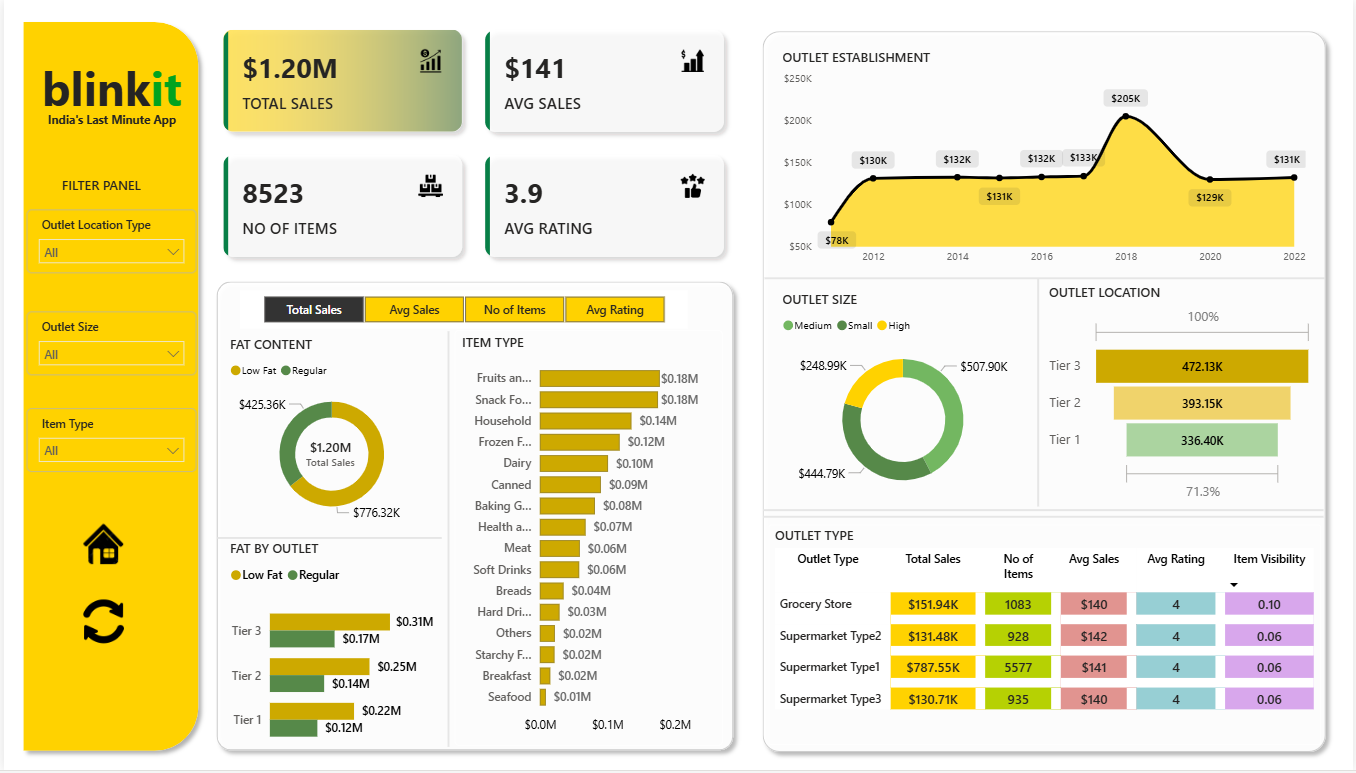

Layout of this report page (visuals, bound fields, positions):
{"tool":"powerbi","page":{"name":"BLINKIT","canvas":[1400,800],"ordinal":0},"visuals":[{"type":"shape","box":[11.6,13.2,199.9,774.7],"z":0},{"type":"textbox","box":[24.2,52.3,174.5,76.5],"z":1000},{"type":"textbox","box":[24.2,108.7,174.5,76.5],"z":2000},{"type":"cardVisual","fields":{"Data":["BlinkIT Grocery Data.Total Sales","BlinkIT Grocery Data.Avg Sales","BlinkIT Grocery Data.No of Items","BlinkIT Grocery Data.Avg Rating"]},"box":[210.9,13.8,555.5,270.2],"z":3000},{"type":"shape","box":[212.3,284,554.2,504.5],"z":4000},{"type":"donutChart","title":"FAT CONTENT","fields":{"Y":["BlinkIT Grocery Data.Total Sales"],"Category":["BlinkIT Grocery Data.Item Fat Content"]},"box":[230.2,347.4,220.5,202.6],"z":5000},{"type":"slicer","fields":{"Values":["Metrics.Metrics"]},"box":[245.4,301.9,464.6,40],"z":6000},{"type":"cardVisual","fields":{"Data":["BlinkIT Grocery Data.Total Sales"]},"box":[277.1,414.9,125.4,111.7],"z":7000},{"type":"clusteredBarChart","title":"FAT BY OUTLET","fields":{"Y":["BlinkIT Grocery Data.Total Sales"],"Category":["BlinkIT Grocery Data.Outlet Location Type"],"Series":["BlinkIT Grocery Data.Item Fat Content"]},"box":[230.2,559.7,220.6,230.2],"z":8000},{"type":"shape","box":[221.9,544.5,233,27.6],"z":9000},{"type":"shape","box":[454.9,343.3,12.4,431.5],"z":10000},{"type":"barChart","title":"ITEM TYPE","fields":{"Y":["BlinkIT Grocery Data.Total Sales"],"Category":["BlinkIT Grocery Data.Item Type"]},"box":[467.3,341.9,278.5,431.5],"z":11000},{"type":"shape","box":[778.4,22.8,602.6,766.3],"z":12000},{"type":"lineChart","title":"OUTLET ESTABLISHMENT","fields":{"Category":["BlinkIT Grocery Data.Outlet Establishment Year"],"Y":["BlinkIT Grocery Data.Total Sales"]},"box":[803.7,49.6,552.8,234.3],"z":13000},{"type":"shape","box":[789.9,284,581.7,11],"z":14000},{"type":"donutChart","title":"OUTLET SIZE","fields":{"Y":["BlinkIT Grocery Data.Total Sales"],"Category":["BlinkIT Grocery Data.Outlet Size"]},"box":[803.7,301.9,259.2,224.7],"z":15000},{"type":"shape","box":[1067,289.5,12.4,237.1],"z":16000},{"type":"funnel","title":"OUTLET LOCATION","fields":{"Y":["Sum(BlinkIT Grocery Data.Sales)"],"Category":["BlinkIT Grocery Data.Outlet Location Type"]},"box":[1079.4,295,284,230.2],"z":17000},{"type":"shape","box":[788.5,523.8,581.7,11],"z":18000},{"type":"pivotTable","title":"OUTLET TYPE","fields":{"Values":["BlinkIT Grocery Data.Total Sales","BlinkIT Grocery Data.No of Items","BlinkIT Grocery Data.Avg Sales","BlinkIT Grocery Data.Avg Rating","Avg(BlinkIT Grocery Data.Item Visibility)"],"Rows":["BlinkIT Grocery Data.Outlet Type"]},"box":[794,544.5,573.5,228.8],"z":19000},{"type":"shape","box":[788.5,530.7,581.7,11],"z":20000},{"type":"slicer","fields":{"Values":["BlinkIT Grocery Data.Outlet Location Type"]},"box":[23.4,217.8,176.5,66.2],"z":21000},{"type":"slicer","fields":{"Values":["BlinkIT Grocery Data.Outlet Size"]},"box":[23.4,322.6,176.5,66.2],"z":22000},{"type":"slicer","fields":{"Values":["BlinkIT Grocery Data.Item Type"]},"box":[23.4,423.2,176.4,66.2],"z":23000},{"type":"textbox","box":[55.1,177.8,111.6,27.6],"z":23001},{"type":"image","box":[76.5,616,52.3,59],"z":23002},{"type":"image","box":[63.1,527.4,77.8,75.2],"z":23003}]}

Visuals, with their boxes in screenshot pixels (x1, y1, x2, y2), scaled from the page's 1400x800 canvas onto the 1356x773 screenshot:
shape: detection(11, 13, 205, 761)
textbox: detection(23, 51, 192, 124)
textbox: detection(23, 105, 192, 179)
cardVisual - BlinkIT Grocery Data.Total Sales x BlinkIT Grocery Data.Avg Sales: detection(204, 13, 742, 274)
shape: detection(206, 274, 742, 762)
"FAT CONTENT" donutChart: detection(223, 336, 437, 531)
slicer - Metrics.Metrics: detection(238, 292, 688, 330)
cardVisual - BlinkIT Grocery Data.Total Sales: detection(268, 401, 390, 509)
"FAT BY OUTLET" clusteredBarChart: detection(223, 541, 437, 763)
shape: detection(215, 526, 441, 553)
shape: detection(441, 332, 453, 749)
"ITEM TYPE" barChart: detection(453, 330, 722, 747)
shape: detection(754, 22, 1338, 762)
"OUTLET ESTABLISHMENT" lineChart: detection(778, 48, 1314, 274)
shape: detection(765, 274, 1328, 285)
"OUTLET SIZE" donutChart: detection(778, 292, 1029, 509)
shape: detection(1033, 280, 1045, 509)
"OUTLET LOCATION" funnel: detection(1045, 285, 1321, 507)
shape: detection(764, 506, 1327, 517)
"OUTLET TYPE" pivotTable: detection(769, 526, 1325, 747)
shape: detection(764, 513, 1327, 523)
slicer - BlinkIT Grocery Data.Outlet Location Type: detection(23, 210, 194, 274)
slicer - BlinkIT Grocery Data.Outlet Size: detection(23, 312, 194, 376)
slicer - BlinkIT Grocery Data.Item Type: detection(23, 409, 194, 473)
textbox: detection(53, 172, 161, 198)
image: detection(74, 595, 125, 652)
image: detection(61, 510, 136, 582)
